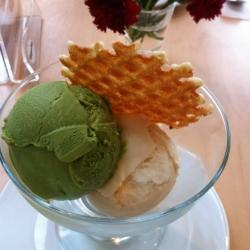icecream: (11, 81, 190, 216)
